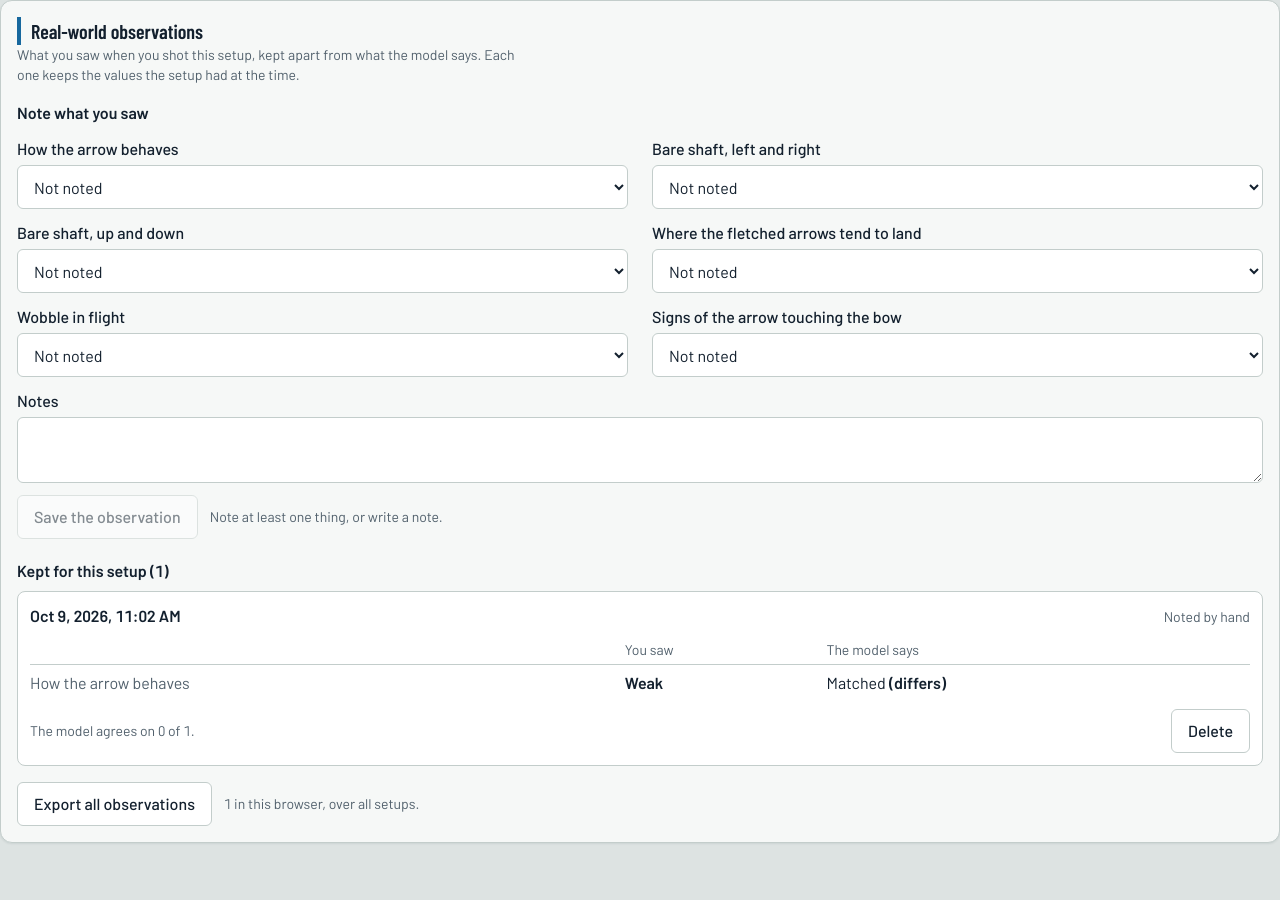
Test: ObservationPanel › deletes an observation
Click the button with aria-label "Delete the observation of": (1210, 731) [1171,709,1250,753]
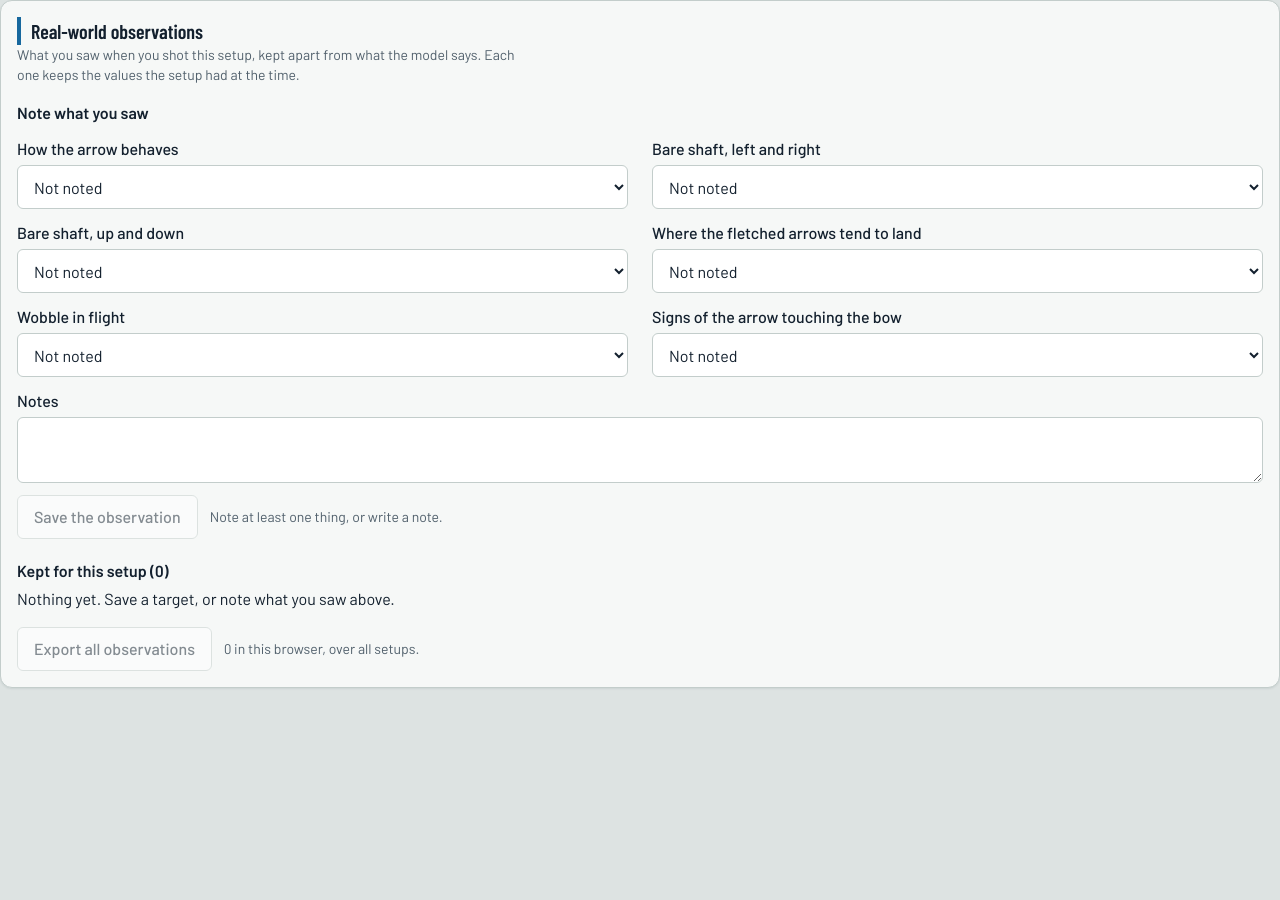
expect the heading "Kept for this setup (0)" is shown: met, box [17,561,169,580]
